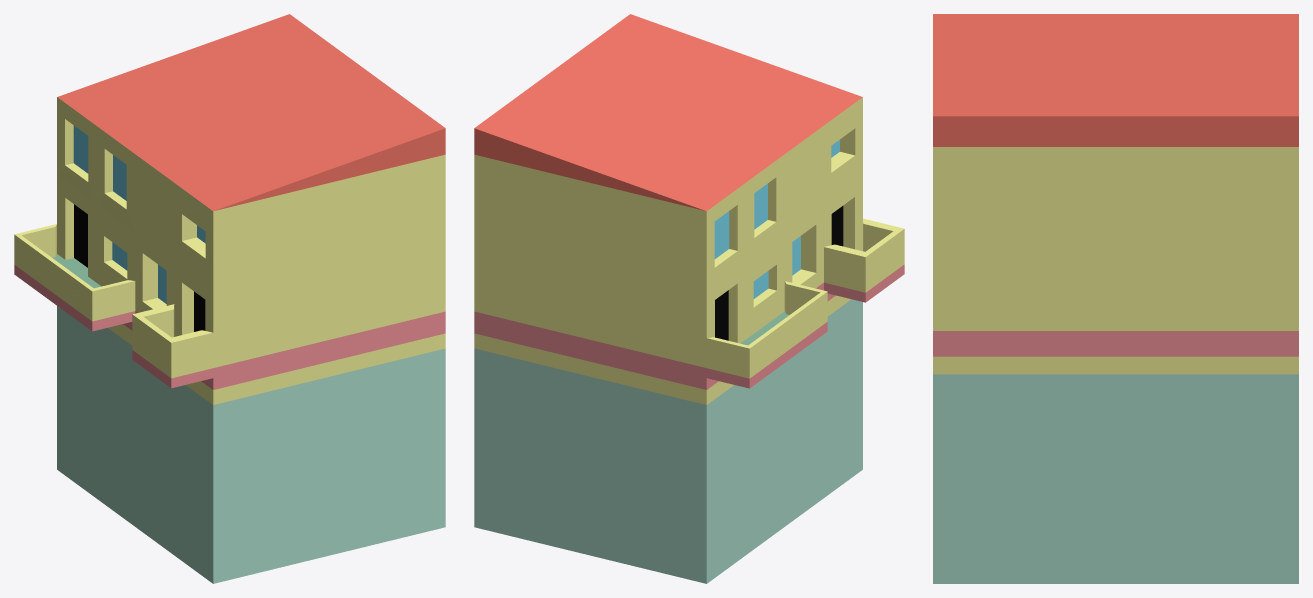
File: House_01.fbx
3 renders of one model, left to right at view 1: azimuth 30°, elevation 25°; view 2: azimuth 150°, elevation 25°; view 3: azimuth 270°, elevation 25°, orthographic. The views are drawn at different scales.
Visible parts, largest first — view 1: Building_09; view 2: Building_09; view 3: Building_09.
Part boxes in pixels (x1=…): Building_09: x1=14, y1=14, x2=445, y2=583; Building_09: x1=474, y1=14, x2=904, y2=583; Building_09: x1=933, y1=14, x2=1298, y2=583.
Size of the model in its own units: 2400 by 3322 by 2356.
